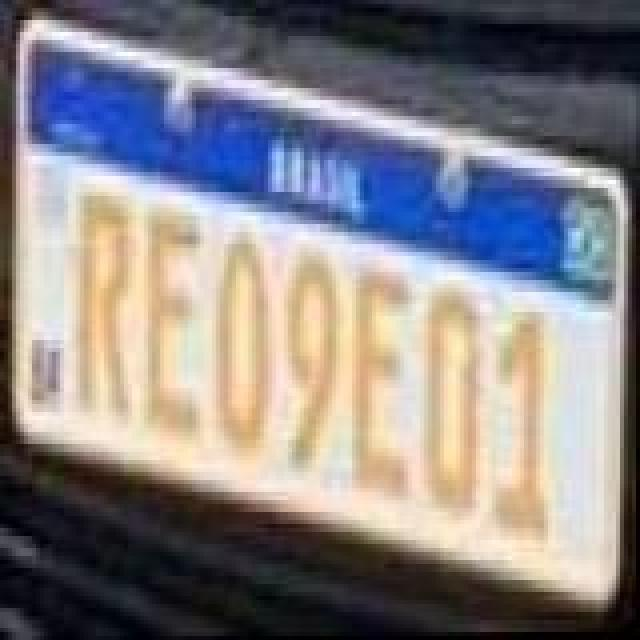1: (494, 302, 558, 542)
9: (276, 248, 344, 464)
D: (422, 282, 486, 522), (214, 224, 278, 452)
E: (140, 208, 208, 444), (350, 266, 414, 502)
R: (70, 190, 134, 430)
